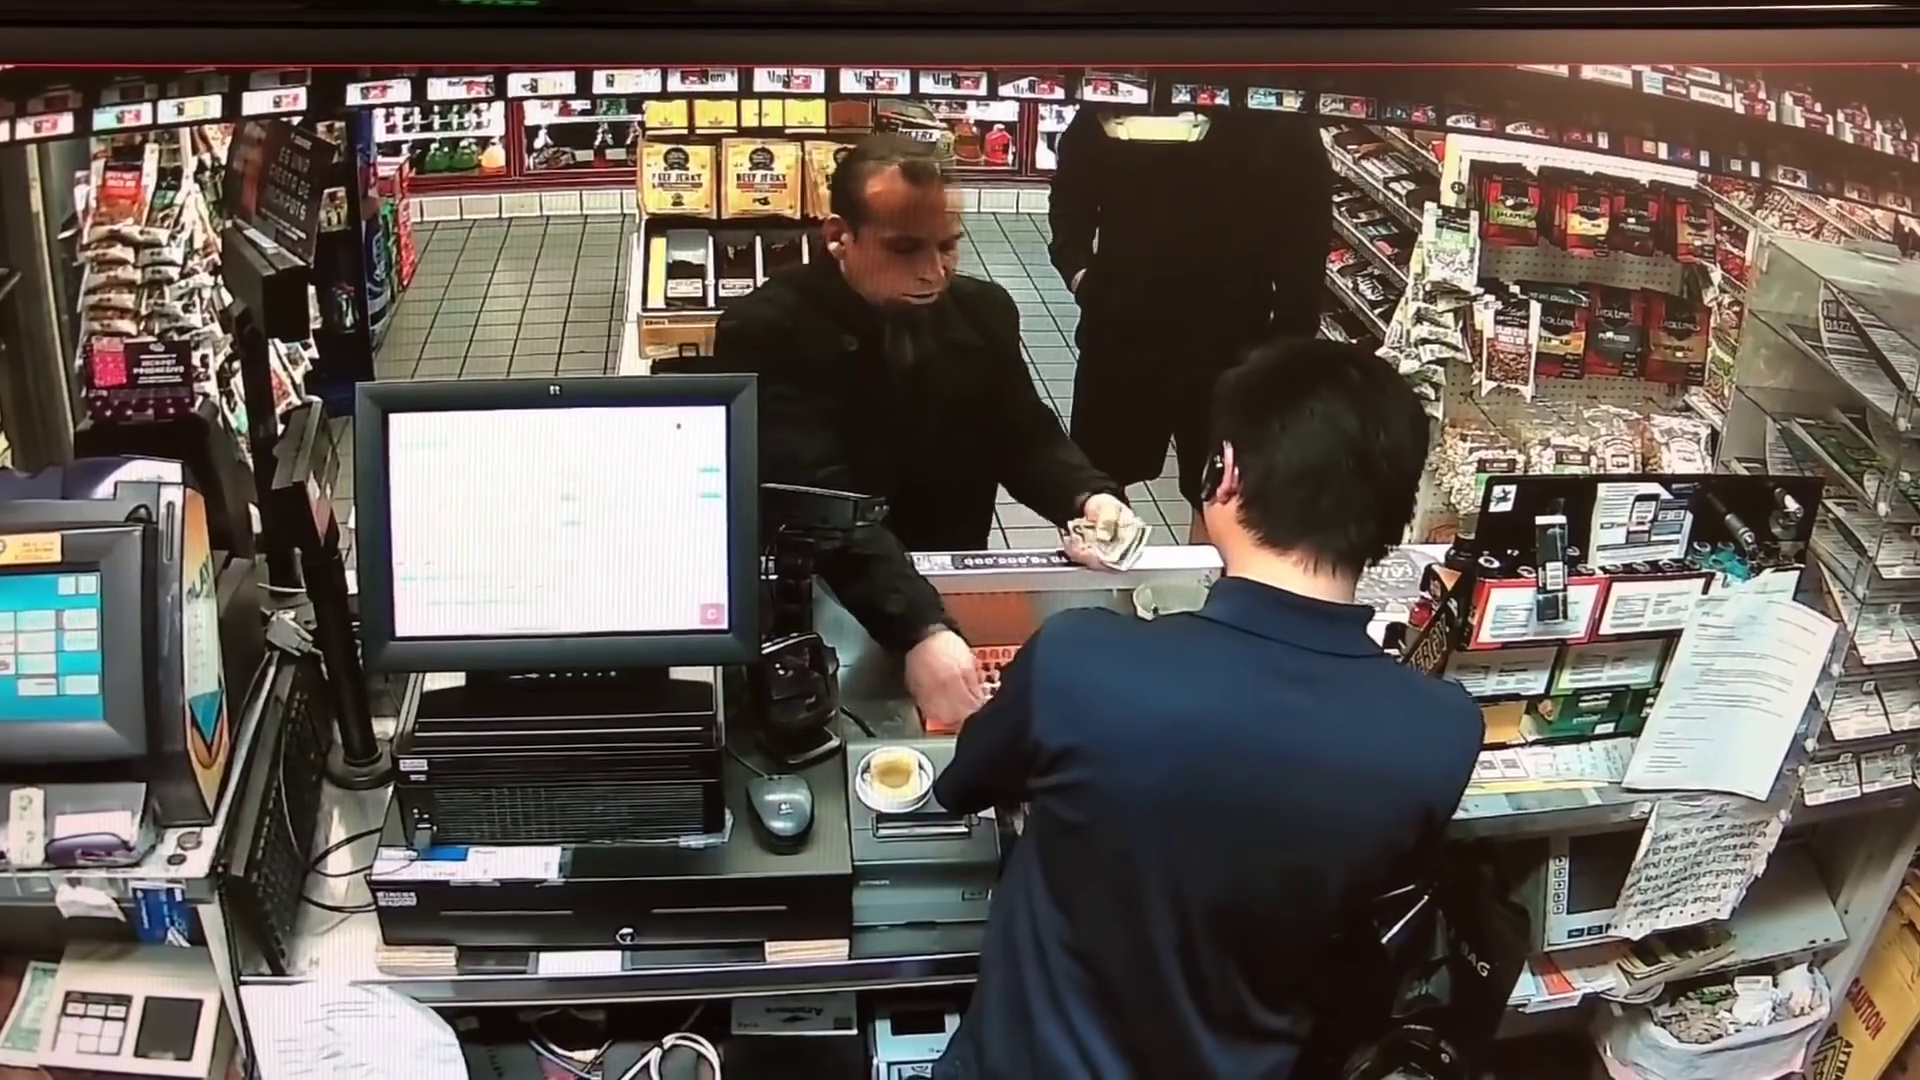face: (852, 179, 971, 314)
